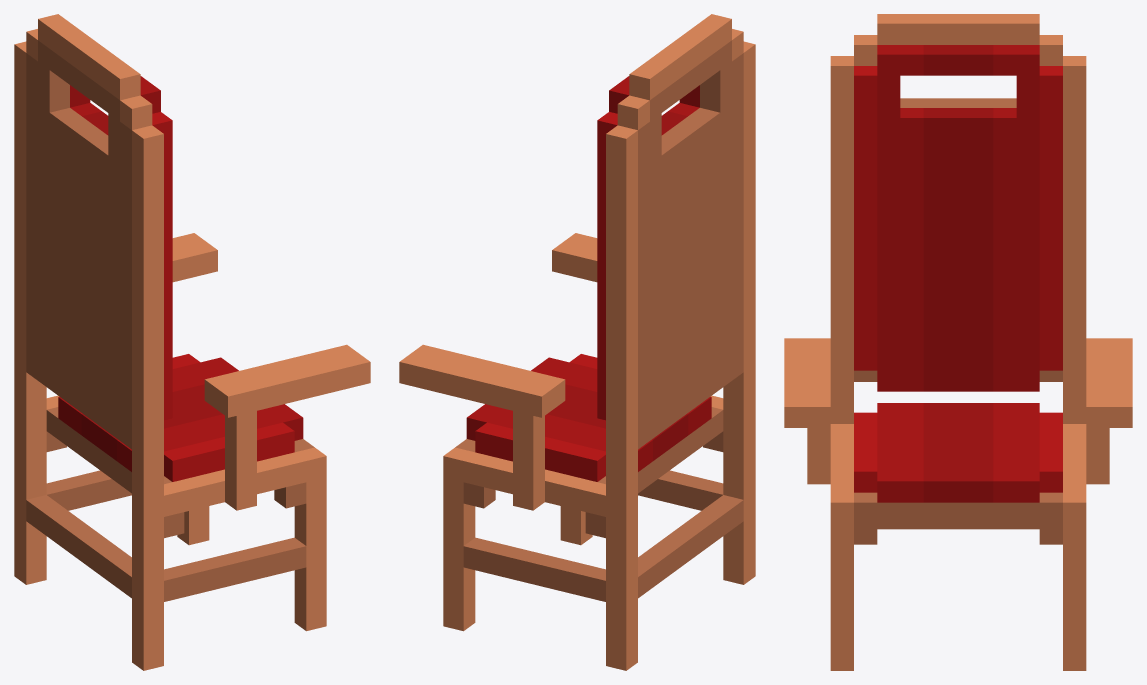
The model's file is chair_3.obj.
3 views of the same model, side by side, from view 1: azimuth 30°, elevation 25°; view 2: azimuth 150°, elevation 25°; view 3: azimuth 270°, elevation 25° (orthographic).
Bounding box in the file's own units: 1 × 2.7 × 1.5.
Materials: 1 (1 with a texture image).
